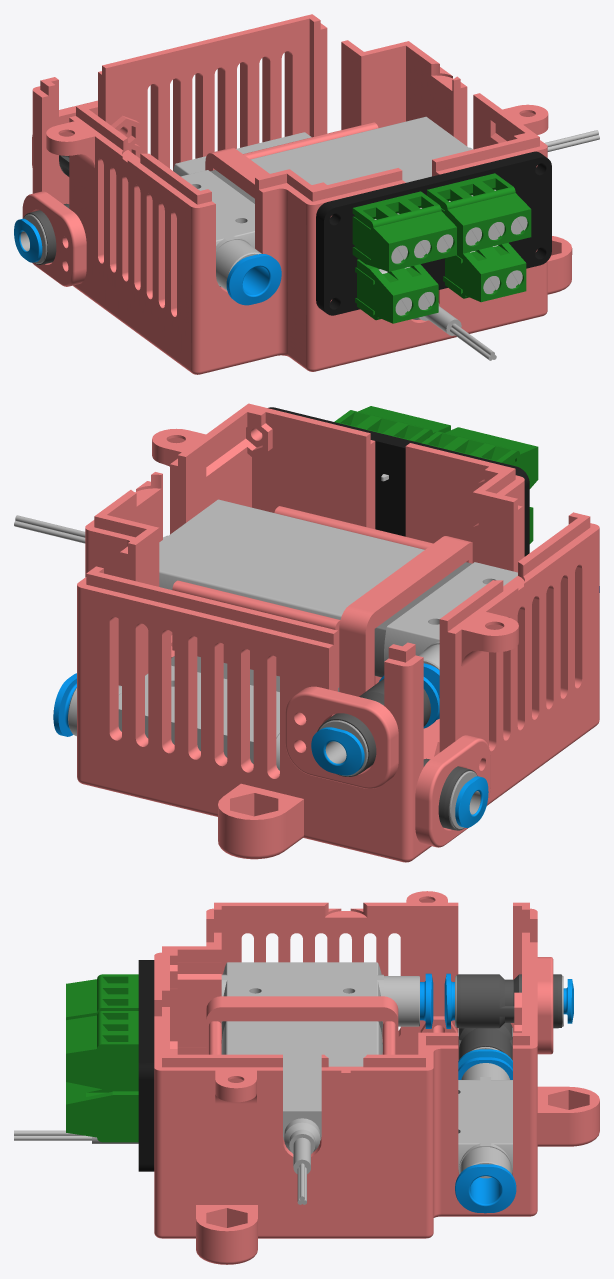
3 renders of one model, top to bottom at view 1: azimuth 30°, elevation 25°; view 2: azimuth 150°, elevation 25°; view 3: azimuth 270°, elevation 25°, orthographic. The views are drawn at different scales.
Visible parts, largest first — view 1: actuator_mount_2_bottom-1 - Part, board_solenoid-1 - Part, _936192 MHJ10-MFstp-1 - Part 3, 3er Terminalblock_2-0.step-1 - Part, 3er Terminalblock_2-0step-1 - Part 2, 2er Terminalblock_2-0step-1 - Part 2, 2er Terminalblock_2-0.step-1 - Part, actuator_mount_2_nozzle_holder-2 - Part, _717990 MHJ10-S-K-QS-6stp-1 - Part 2, _172973 QSP10-6stp-2 - Part 4, actuator_mount_2_holder_top-1 - Part, _936192 MHJ10-MF.stp-1 - Part (+6 smaller); view 2: actuator_mount_2_bottom-1 - Part, _936192 MHJ10-MFstp-1 - Part 3, actuator_mount_2_holder_top-1 - Part, actuator_mount_2_nozzle_holder-1 - Part, board_solenoid-1 - Part, _717990 MHJ10-S-K-QS-6stp-1 - Part 2, actuator_mount_2_nozzle_holder-2 - Part, actuator_mount_2_holder-1 - Part, 3er Terminalblock_2-0.step-1 - Part, 3er Terminalblock_2-0step-1 - Part 2, 153327_QSM_6_4-2 - Part 2, _717990 MHJ10-S-K-QS-6.stp-1 - Part (+7 smaller); view 3: actuator_mount_2_bottom-1 - Part, _936192 MHJ10-MFstp-1 - Part 3, _717990 MHJ10-S-K-QS-6stp-1 - Part 2, 3er Terminalblock_2-0step-1 - Part 2, actuator_mount_2_holder_top-1 - Part, _717990 MHJ10-S-K-QS-6.stp-1 - Part, 2er Terminalblock_2-0.step-1 - Part, 153327_QSM_6_4-2 - Part, board_solenoid-1 - Part, 3er Terminalblock_2-0.step-1 - Part, _172973 QSP10-6.stp-1 - Part, actuator_mount_2_nozzle_holder-1 - Part (+9 smaller).
Part boxes in pixels (bbox=[...]): actuator_mount_2_bottom-1 - Part: bbox=[32, 14, 572, 374]; board_solenoid-1 - Part: bbox=[316, 151, 551, 315]; _936192 MHJ10-MFstp-1 - Part 3: bbox=[250, 116, 599, 184]; 3er Terminalblock_2-0.step-1 - Part: bbox=[352, 191, 456, 271]; 3er Terminalblock_2-0step-1 - Part 2: bbox=[427, 173, 531, 253]; 2er Terminalblock_2-0step-1 - Part 2: bbox=[355, 259, 438, 323]; 2er Terminalblock_2-0.step-1 - Part: bbox=[443, 242, 526, 302]; actuator_mount_2_nozzle_holder-2 - Part: bbox=[22, 191, 86, 286]; _717990 MHJ10-S-K-QS-6stp-1 - Part 2: bbox=[181, 170, 254, 286]; _172973 QSP10-6stp-2 - Part 4: bbox=[226, 254, 281, 305]; actuator_mount_2_holder_top-1 - Part: bbox=[205, 147, 269, 198]; _936192 MHJ10-MF.stp-1 - Part: bbox=[412, 303, 496, 360]; actuator_mount_2_bottom-1 - Part: bbox=[77, 403, 599, 862]; _936192 MHJ10-MFstp-1 - Part 3: bbox=[14, 499, 424, 619]; actuator_mount_2_holder_top-1 - Part: bbox=[339, 536, 472, 696]; actuator_mount_2_nozzle_holder-1 - Part: bbox=[285, 686, 398, 788]; board_solenoid-1 - Part: bbox=[268, 407, 529, 556]; _717990 MHJ10-S-K-QS-6stp-1 - Part 2: bbox=[384, 562, 517, 662]; actuator_mount_2_nozzle_holder-2 - Part: bbox=[415, 735, 490, 847]; actuator_mount_2_holder-1 - Part: bbox=[171, 506, 433, 687]; 3er Terminalblock_2-0.step-1 - Part: bbox=[421, 427, 538, 488]; 3er Terminalblock_2-0step-1 - Part 2: bbox=[334, 406, 450, 442]; 153327_QSM_6_4-2 - Part 2: bbox=[311, 675, 439, 775]; _717990 MHJ10-S-K-QS-6.stp-1 - Part: bbox=[118, 665, 279, 763]; actuator_mount_2_bottom-1 - Part: bbox=[154, 891, 599, 1264]; _936192 MHJ10-MFstp-1 - Part 3: bbox=[221, 1021, 382, 1204]; _717990 MHJ10-S-K-QS-6stp-1 - Part 2: bbox=[221, 962, 383, 1027]; 3er Terminalblock_2-0step-1 - Part 2: bbox=[66, 1011, 138, 1091]; actuator_mount_2_holder_top-1 - Part: bbox=[206, 996, 398, 1054]; _717990 MHJ10-S-K-QS-6.stp-1 - Part: bbox=[458, 1077, 512, 1174]; 2er Terminalblock_2-0.step-1 - Part: bbox=[66, 1082, 138, 1142]; 153327_QSM_6_4-2 - Part: bbox=[456, 974, 561, 1028]; board_solenoid-1 - Part: bbox=[138, 960, 154, 1171]; 3er Terminalblock_2-0.step-1 - Part: bbox=[66, 974, 138, 1020]; _172973 QSP10-6.stp-1 - Part: bbox=[455, 1164, 516, 1213]; actuator_mount_2_nozzle_holder-1 - Part: bbox=[537, 957, 553, 1054].
Bounding box in the file's own units: 0.1088 × 0.038 × 0.1128.
